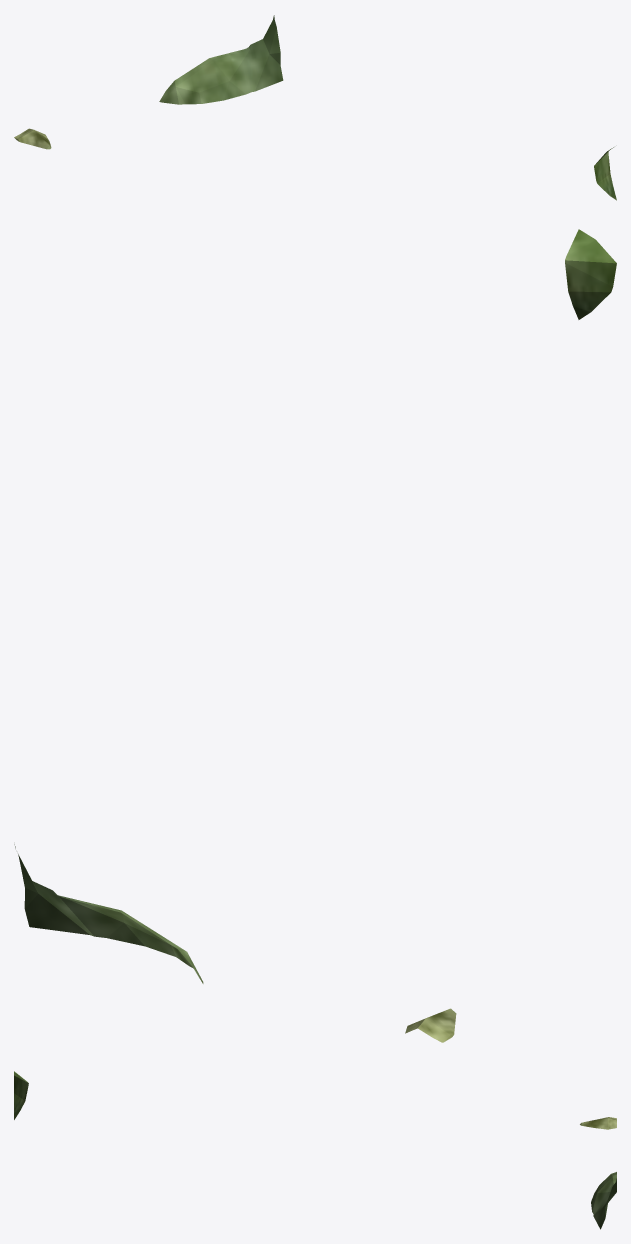
3 renders of one model, top to bottom at view 1: azimuth 30°, elevation 25°; view 2: azimuth 150°, elevation 25°; view 3: azimuth 270°, elevation 25°, orthographic. The views are drawn at different scales.
Bounding box in the file's own units: 1.3 × 0.8517 × 2.95.
Materials: 1 (1 with a texture image).
